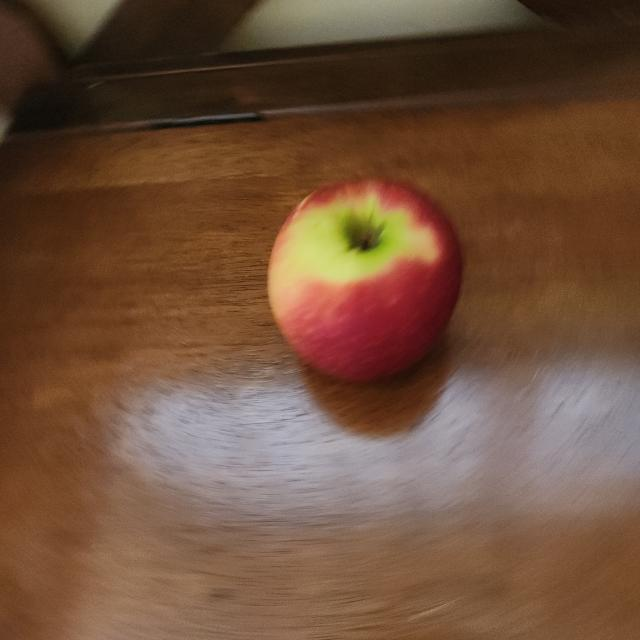apple: (261, 169, 473, 398)
